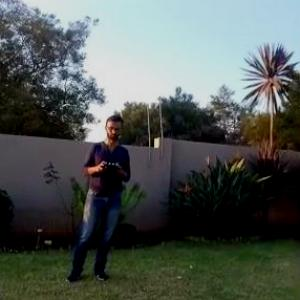follow: (61, 113, 133, 286)
